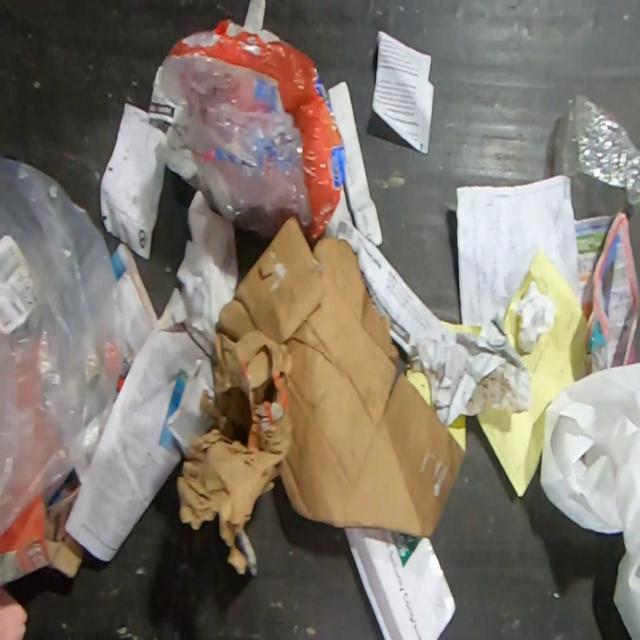cardboard: (216, 216, 468, 537), (340, 526, 458, 640), (0, 478, 85, 584), (0, 584, 29, 639)
soft_plastic: (0, 157, 126, 540), (159, 16, 346, 246), (551, 89, 640, 208)
